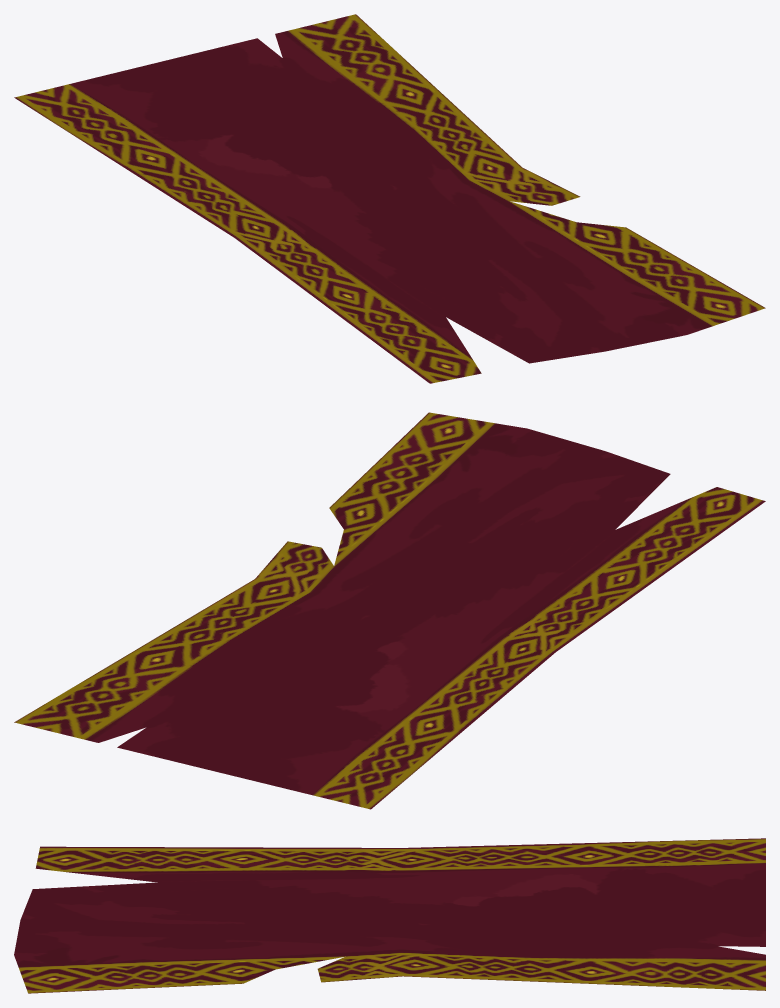
The model's file is SM_PROP_rug_dungeon_01.fbx.
3 renders of one model, top to bottom at view 1: azimuth 30°, elevation 25°; view 2: azimuth 150°, elevation 25°; view 3: azimuth 270°, elevation 25°, orthographic. The views are drawn at different scales.
Parts seen in each view (by area): view 1: SM_PROP_rug_dungeon_01; view 2: SM_PROP_rug_dungeon_01; view 3: SM_PROP_rug_dungeon_01.
Boxes of the visible parts, x1=… form: SM_PROP_rug_dungeon_01: x1=14, y1=14, x2=765, y2=383; SM_PROP_rug_dungeon_01: x1=14, y1=412, x2=765, y2=809; SM_PROP_rug_dungeon_01: x1=14, y1=838, x2=765, y2=993.
Size of the model in its own units: 234 by 0 by 480.
